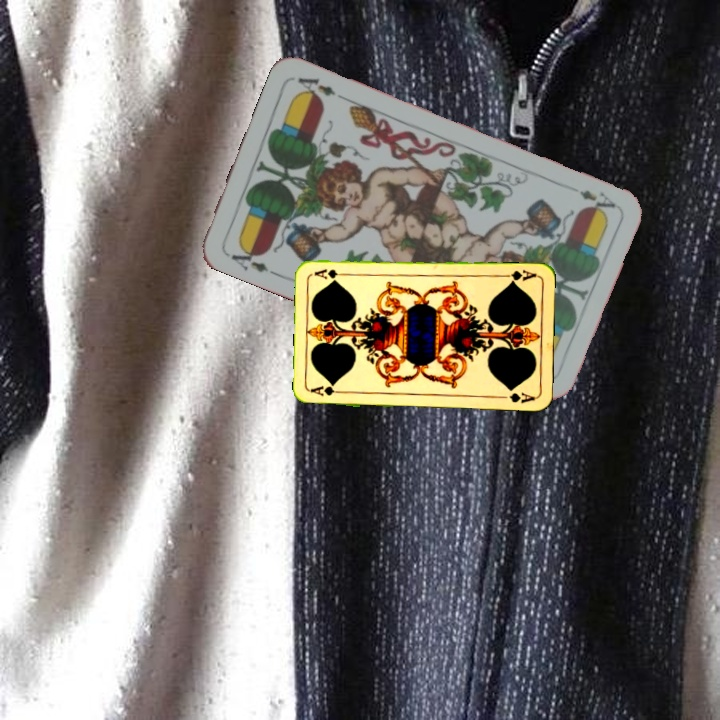EA: (227, 241, 271, 275), (575, 186, 618, 218)
GA: (498, 266, 539, 285), (307, 382, 348, 398)
